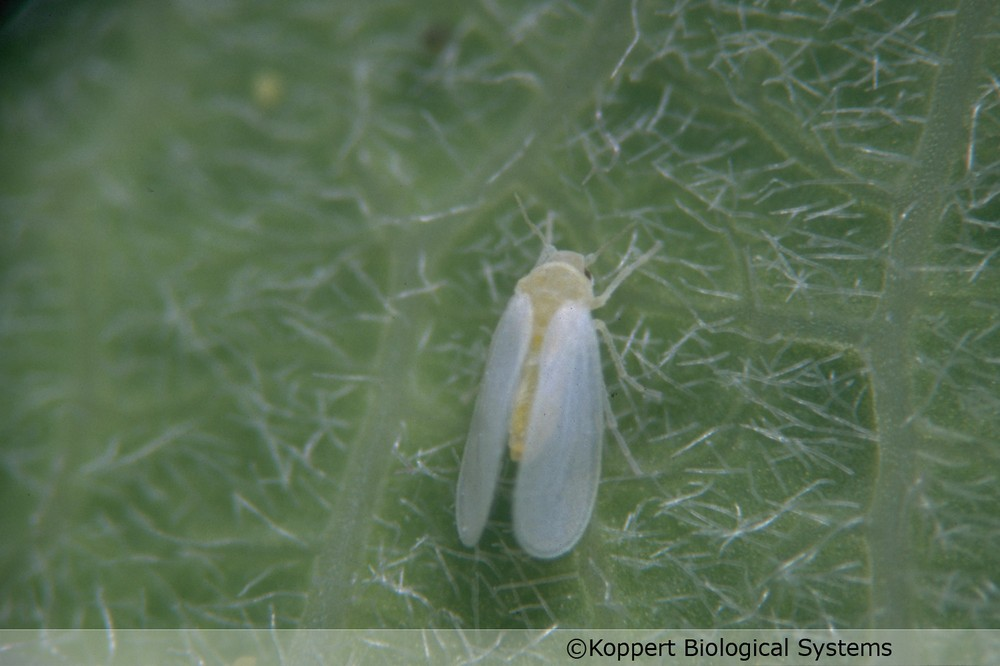Mosca Blanca: (431, 202, 647, 569)
